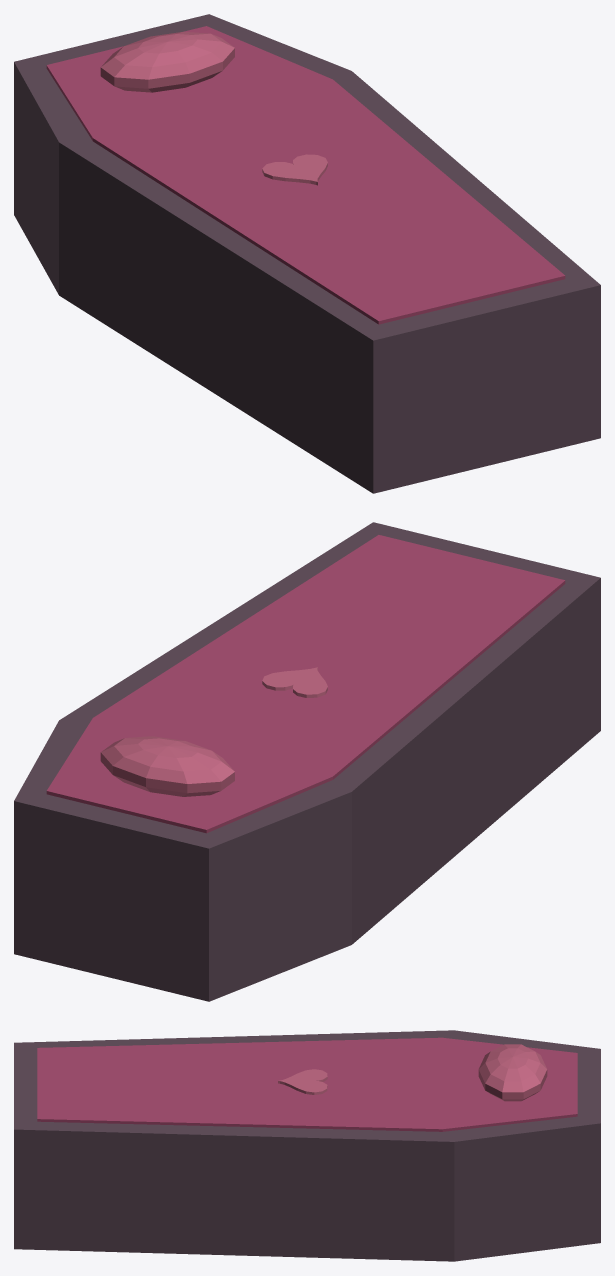
The model's file is CoffinBed.fbx.
3 views of the same model, one above another, from view 1: azimuth 30°, elevation 25°; view 2: azimuth 150°, elevation 25°; view 3: azimuth 270°, elevation 25° (orthographic). The views are drawn at different scales.
Parts seen in each view (by area): view 1: Prop_CoffinBed; view 2: Prop_CoffinBed; view 3: Prop_CoffinBed.
Part boxes in pixels (<box>): Prop_CoffinBed: <box>14,14,600,493</box>; Prop_CoffinBed: <box>14,522,600,1001</box>; Prop_CoffinBed: <box>14,1030,600,1261</box>.
Size of the model in its own units: 0.9 by 0.56 by 2.
